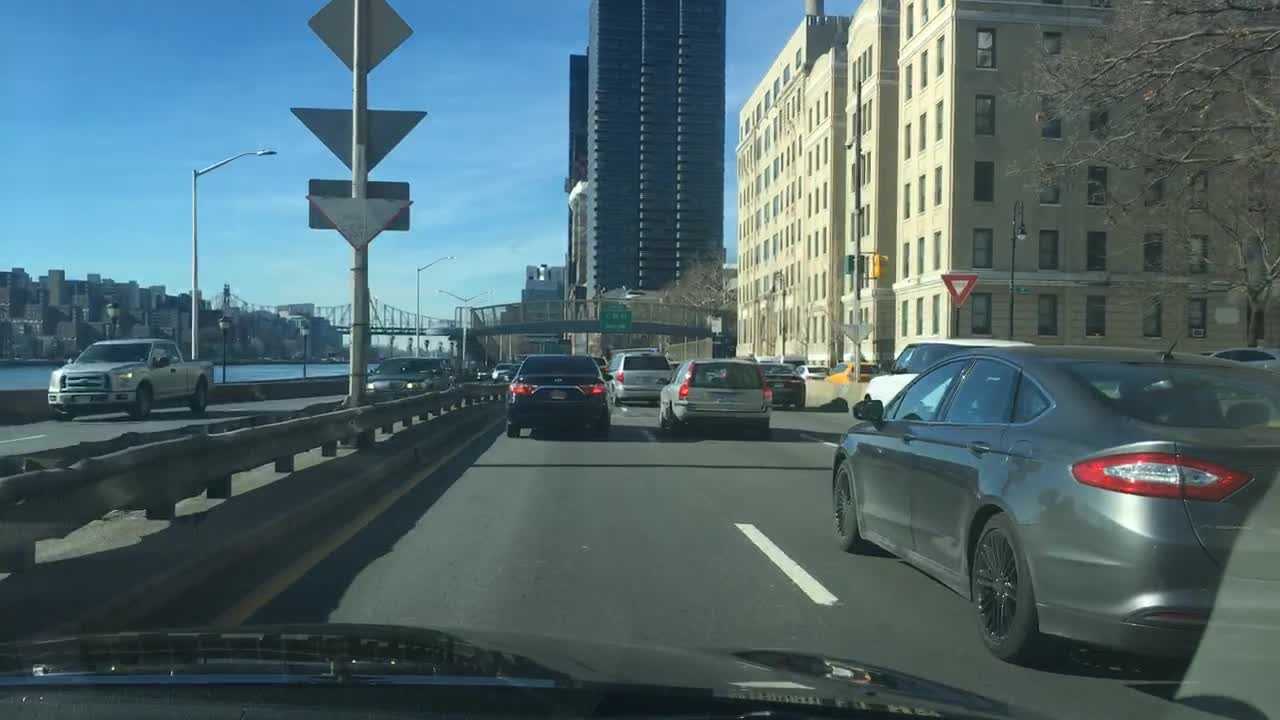car: (826, 346, 1277, 673), (859, 335, 1039, 425), (654, 353, 774, 439), (500, 351, 613, 440), (605, 346, 674, 408), (1179, 342, 1279, 380), (364, 354, 435, 400), (756, 358, 808, 413), (818, 358, 882, 386), (793, 359, 830, 381), (434, 356, 457, 391), (488, 359, 515, 386)
traffic light: (872, 253, 887, 279)
traffic sign: (287, 104, 425, 178), (305, 0, 418, 77), (298, 194, 413, 249), (303, 178, 410, 231), (938, 271, 978, 311), (599, 302, 631, 334)
truck: (43, 334, 219, 422)
